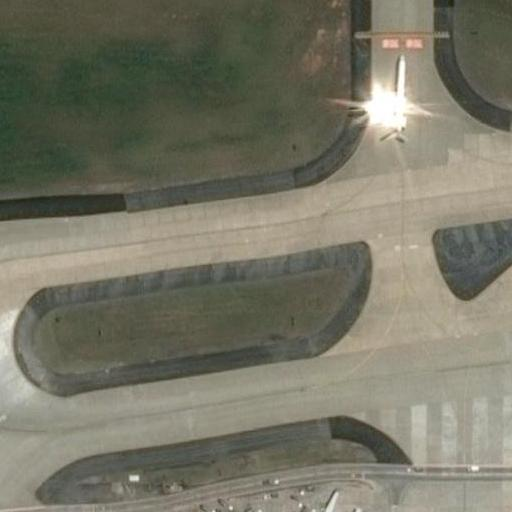Aircraft: (284, 488, 373, 512)
